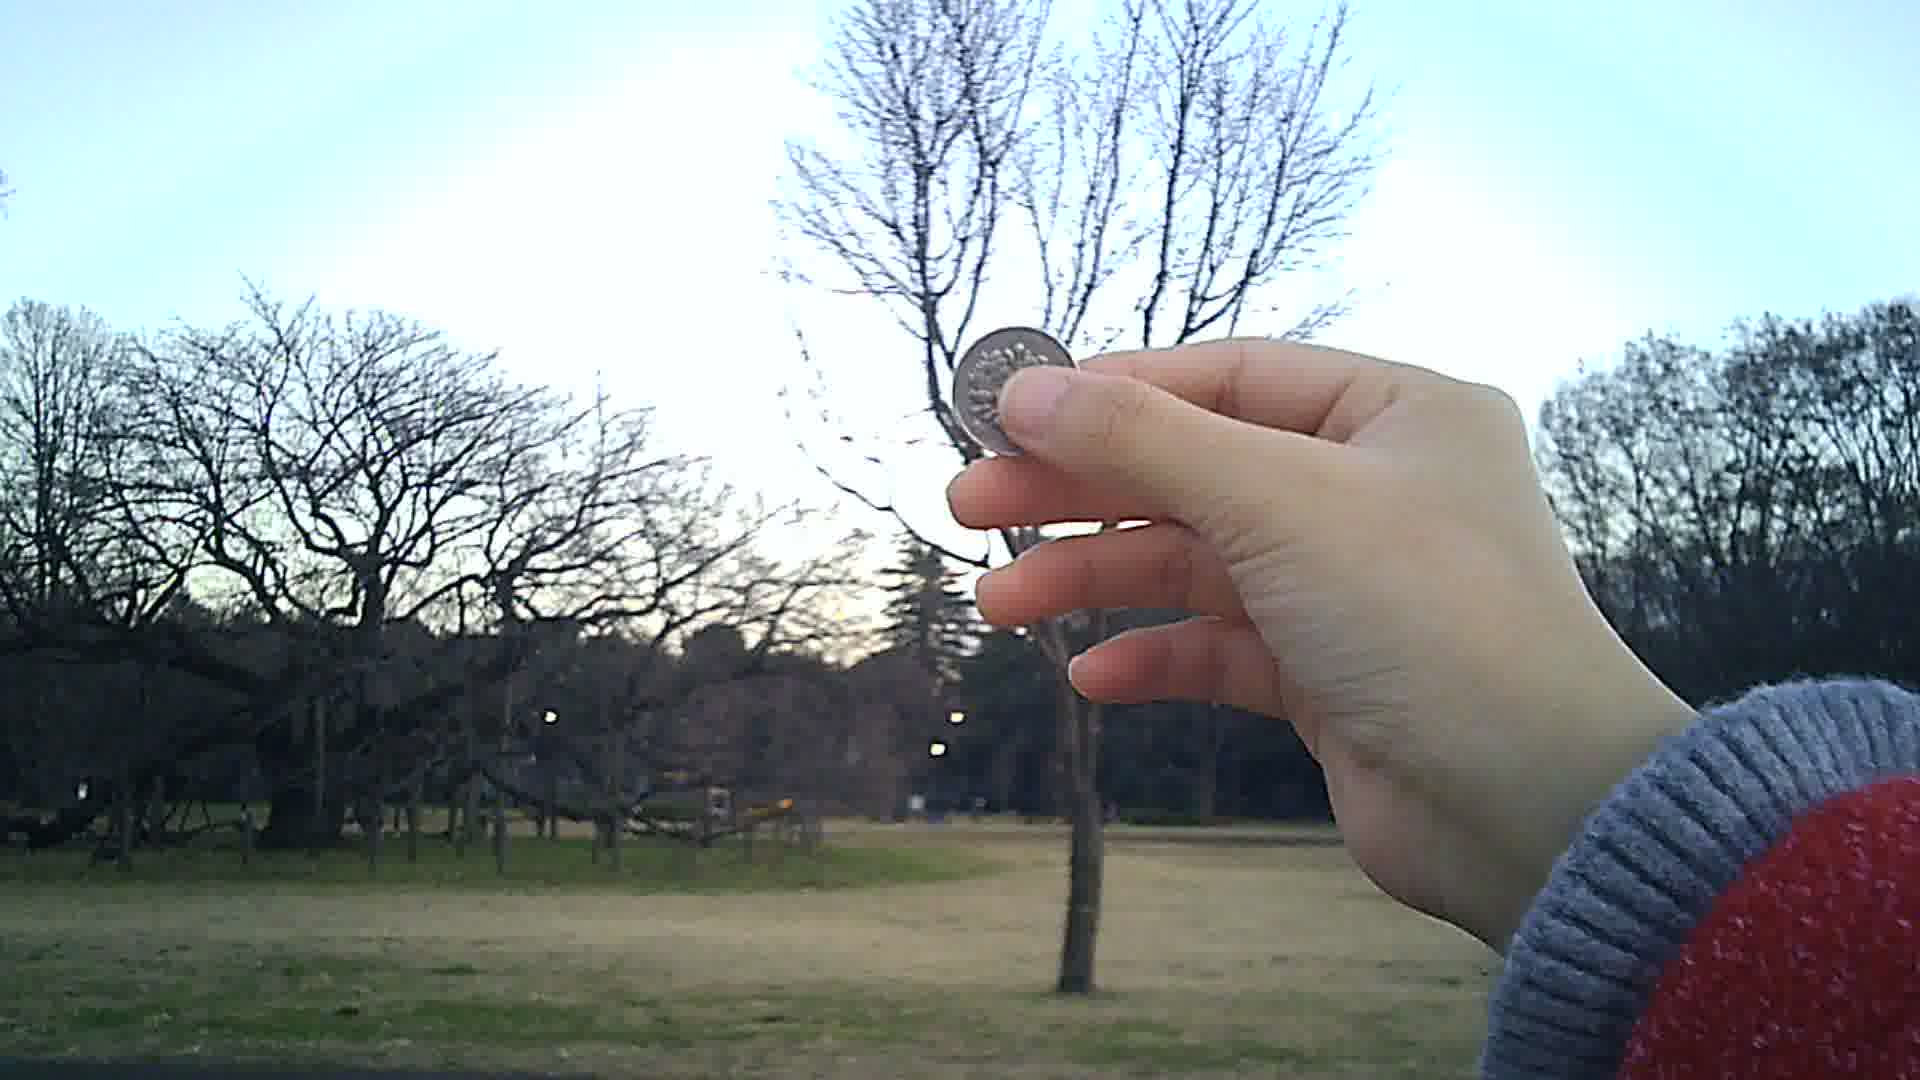100 Yen: (947, 319, 1092, 460)
